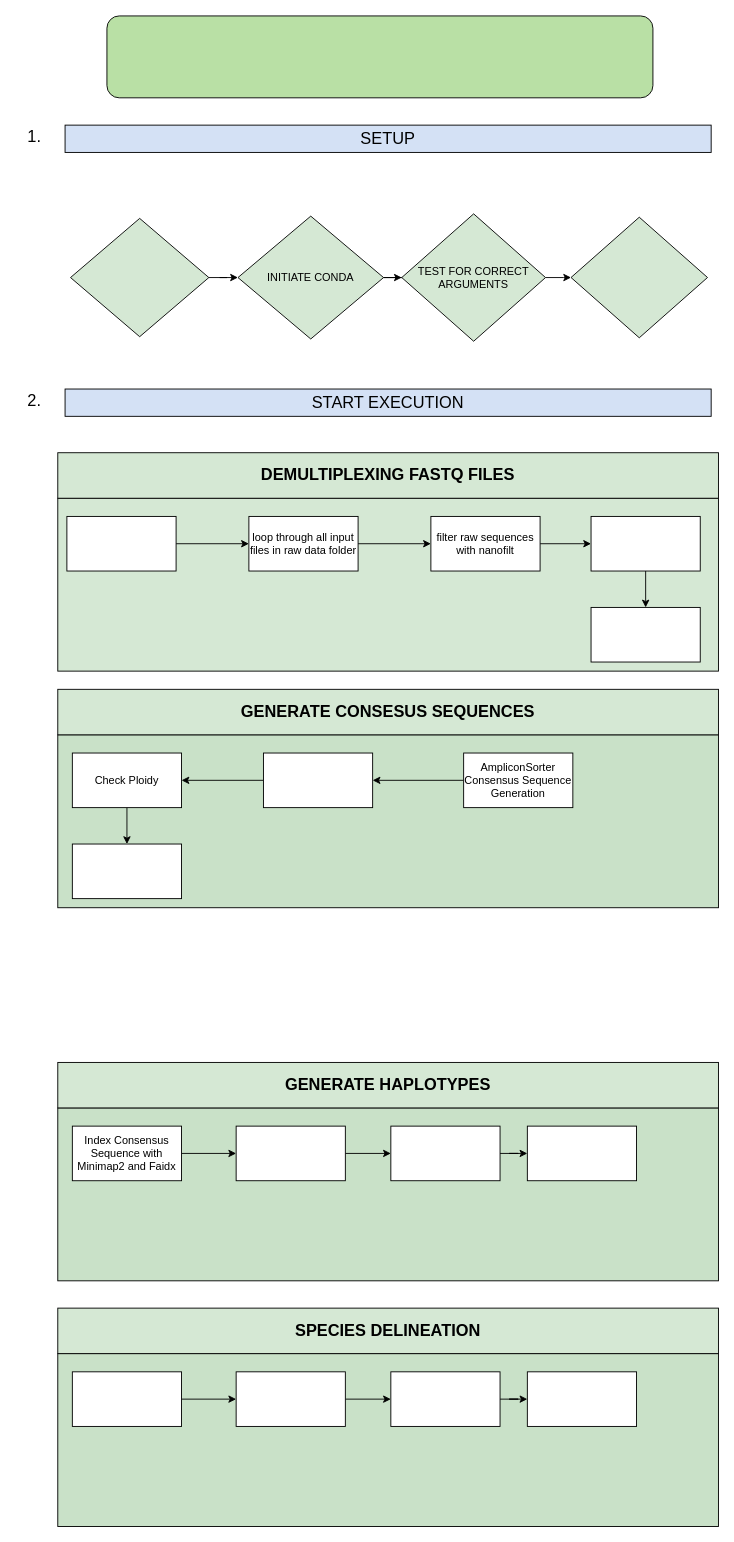
Image size: 734x1542. Some labels were removed from this diagram. Each missing label, with the centre of its shape:
"copy raw data to new output folder" belongs at point (121, 543).
"demultiplex with demultiplex script" belongs at point (645, 543).
"HAPLOTYPE PIPELINE WORKFLOW" belongs at point (379, 56).
"Indexing Consensus Sequences" belongs at point (318, 780).
"TEST FOR CORRECT INSTALLATION" belongs at point (139, 277).
"TEST FOR EXISITING FASTQ FILES" belongs at point (639, 277).
"Variant Calling with NanoCaller" belongs at point (290, 1153).
